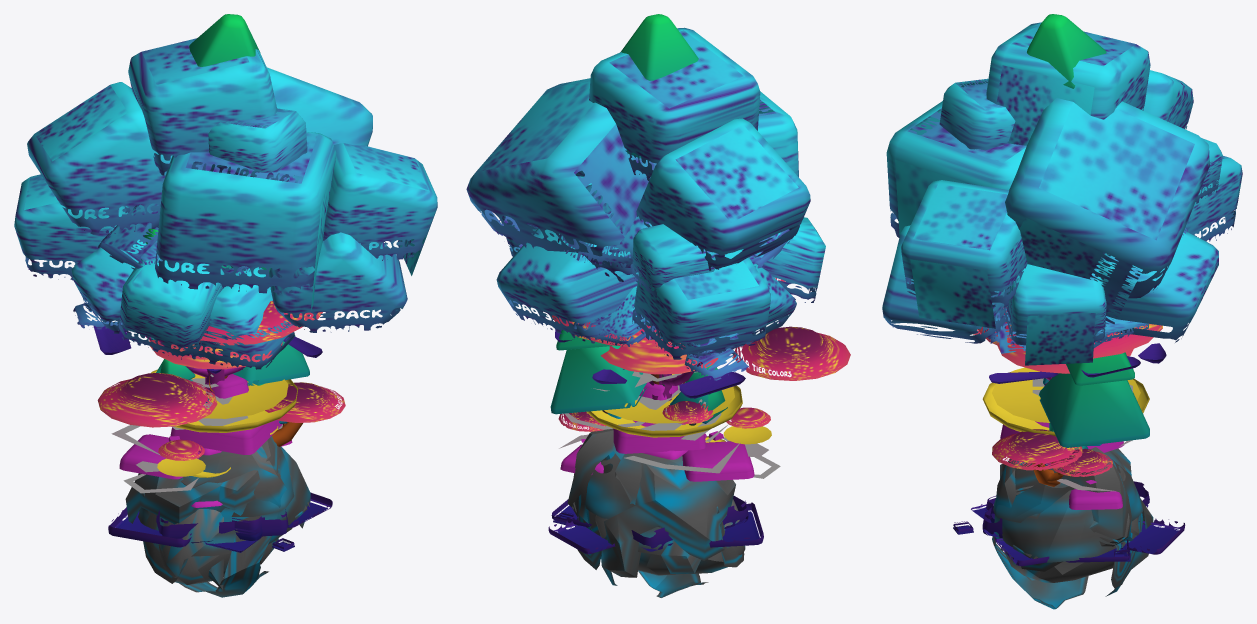
The model's file is Biomas_Props.fbx.
The picture shows the model from 3 angles, left to right: view 1: azimuth 30°, elevation 25°; view 2: azimuth 150°, elevation 25°; view 3: azimuth 270°, elevation 25°; orthographic projection. The views are drawn at different scales.
Visible parts, largest first — view 1: Tree_3_Bioma1, Tree_3_Bioma2, Rock_2_Bioma3, Rock_3_Bioma3, Rock_2_Bioma1, Tree_2_Bioma2, Tree_3_Bioma3, Tree_2_Bioma1, Rock_1_Bioma3, Rock_3_Bioma1, Tree_1_Bioma2, Rock_3_Bioma2; view 2: Tree_3_Bioma1, Rock_3_Bioma3, Tree_3_Bioma3, Tree_3_Bioma2, Rock_2_Bioma1, Tree_2_Bioma1, Tree_2_Bioma2, Rock_2_Bioma3, Rock_3_Bioma2, Rock_3_Bioma1, Tree_1_Bioma2, Tree_1_Bioma1 (+2 smaller); view 3: Tree_3_Bioma1, Tree_3_Bioma3, Rock_2_Bioma3, Rock_3_Bioma3, Tree_3_Bioma2, Rock_3_Bioma1, Tree_2_Bioma1, Tree_2_Bioma2, Rock_2_Bioma1, Rock_1_Bioma3, Tree_1_Bioma2.
Part boxes in pixels (<box>): Tree_3_Bioma1: <box>14,38,437,395</box>; Tree_3_Bioma2: <box>97,300,345,446</box>; Rock_2_Bioma3: <box>138,446,310,597</box>; Rock_3_Bioma3: <box>125,436,309,589</box>; Rock_2_Bioma1: <box>108,374,292,547</box>; Tree_2_Bioma2: <box>149,340,288,476</box>; Tree_3_Bioma3: <box>144,14,309,385</box>; Tree_2_Bioma1: <box>83,203,322,376</box>; Rock_1_Bioma3: <box>158,509,278,585</box>; Rock_3_Bioma1: <box>156,492,332,552</box>; Tree_1_Bioma2: <box>151,369,298,477</box>; Rock_3_Bioma2: <box>111,383,282,493</box>; Tree_3_Bioma1: <box>466,27,825,400</box>; Rock_3_Bioma3: <box>567,428,735,585</box>; Tree_3_Bioma3: <box>550,14,698,414</box>; Tree_3_Bioma2: <box>552,278,850,431</box>; Rock_2_Bioma1: <box>551,382,763,547</box>; Tree_2_Bioma1: <box>555,184,789,398</box>; Tree_2_Bioma2: <box>600,339,771,444</box>; Rock_2_Bioma3: <box>572,451,744,597</box>; Rock_3_Bioma2: <box>559,371,780,478</box>; Rock_3_Bioma1: <box>548,496,748,554</box>; Tree_1_Bioma2: <box>586,385,742,442</box>; Tree_1_Bioma1: <box>659,333,748,385</box>; Tree_3_Bioma1: <box>882,22,1242,365</box>; Tree_3_Bioma3: <box>1027,14,1149,447</box>; Rock_2_Bioma3: <box>992,451,1143,609</box>; Rock_3_Bioma3: <box>993,447,1153,596</box>; Tree_3_Bioma2: <box>973,307,1162,486</box>; Rock_3_Bioma1: <box>953,481,1185,566</box>; Tree_2_Bioma1: <box>984,220,1189,383</box>; Tree_2_Bioma2: <box>992,345,1140,422</box>; Rock_2_Bioma1: <box>985,382,1139,562</box>; Rock_1_Bioma3: <box>1004,513,1138,582</box>; Tree_1_Bioma2: <box>982,371,1149,436</box>.
Size of the model in its own units: 666 by 710 by 1205.
Materials: 8 (8 with a texture image).
